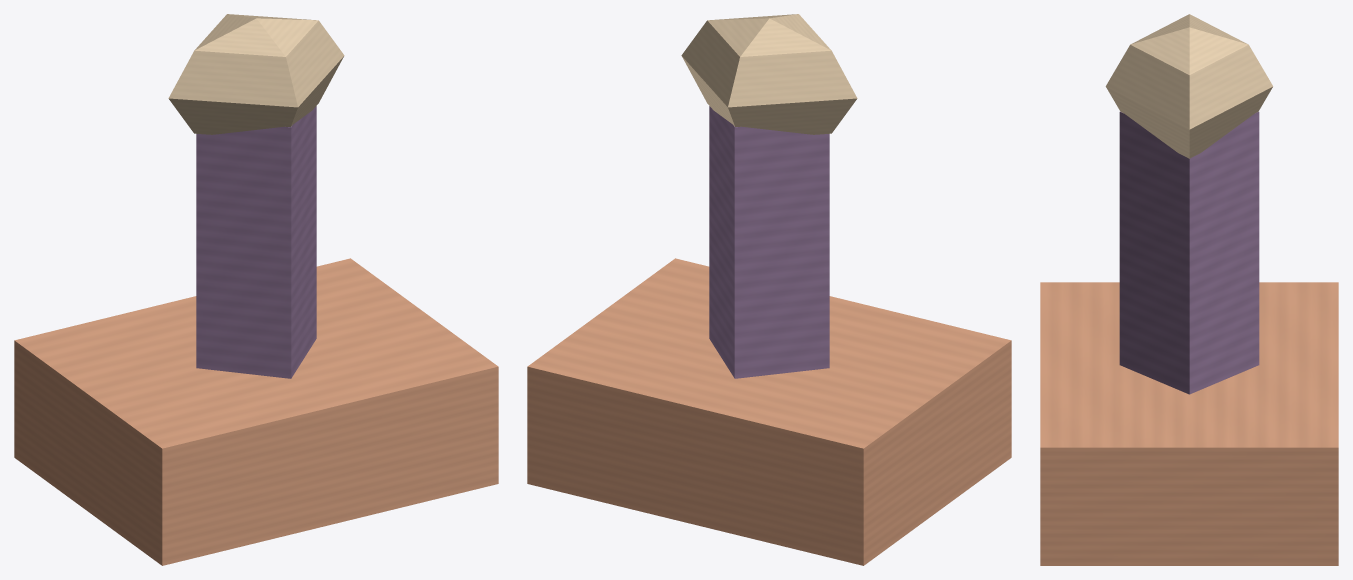
Rendered from atlas100-s083-a05.glb.
3 renders of one model, left to right at view 1: azimuth 30°, elevation 25°; view 2: azimuth 150°, elevation 25°; view 3: azimuth 270°, elevation 25°, orthographic.
Parts seen in each view (by area): view 1: atlas100-s083-a05:part-000, atlas100-s083-a05:part-001, atlas100-s083-a05:part-002; view 2: atlas100-s083-a05:part-000, atlas100-s083-a05:part-001, atlas100-s083-a05:part-002; view 3: atlas100-s083-a05:part-000, atlas100-s083-a05:part-001, atlas100-s083-a05:part-002.
Boxes of the visible parts, bbox=[...] form: atlas100-s083-a05:part-000: bbox=[14, 258, 498, 565]; atlas100-s083-a05:part-001: bbox=[196, 106, 316, 378]; atlas100-s083-a05:part-002: bbox=[168, 14, 344, 134]; atlas100-s083-a05:part-000: bbox=[527, 258, 1011, 565]; atlas100-s083-a05:part-001: bbox=[709, 106, 829, 378]; atlas100-s083-a05:part-002: bbox=[681, 14, 857, 134]; atlas100-s083-a05:part-000: bbox=[1040, 282, 1338, 565]; atlas100-s083-a05:part-001: bbox=[1119, 111, 1259, 394]; atlas100-s083-a05:part-002: bbox=[1105, 14, 1273, 158].
Size of the model in its own units: 0.4586 by 0.5897 by 0.3494.
Materials: 3 (3 with a texture image).
